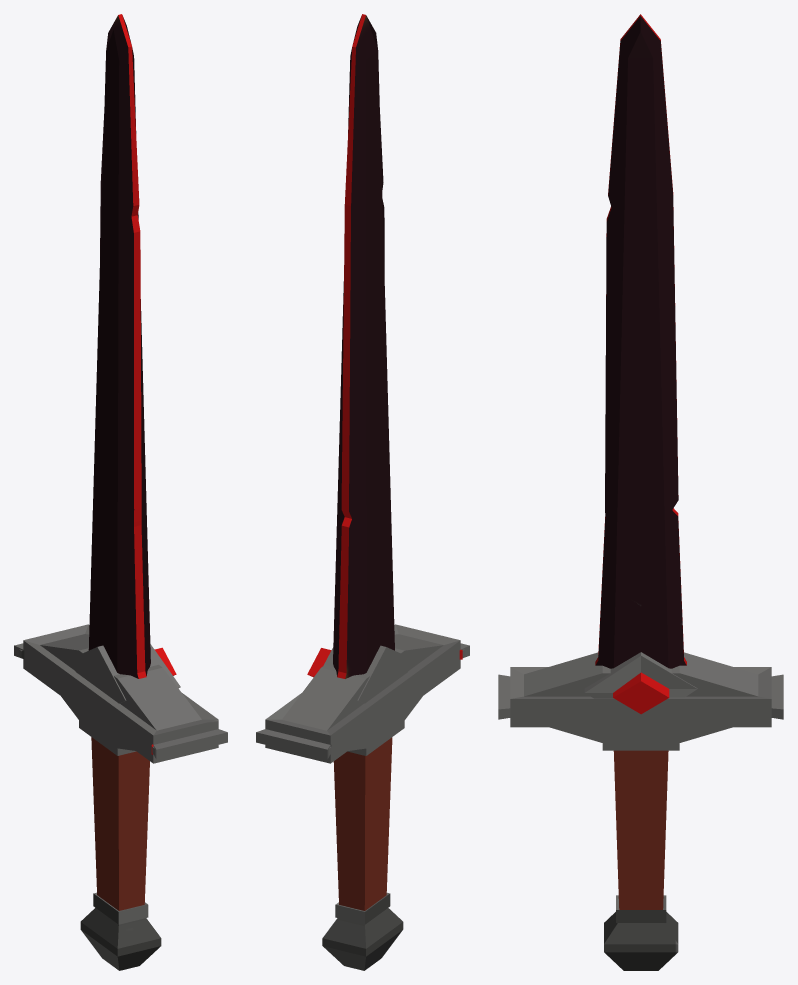
The model's file is FinalSwordColoured.fbx.
3 views of the same model, side by side, from view 1: azimuth 30°, elevation 25°; view 2: azimuth 150°, elevation 25°; view 3: azimuth 270°, elevation 25° (orthographic).
Parts seen in each view (by area): view 1: Plane; view 2: Plane; view 3: Plane.
Boxes of the visible parts, left/top/right/bottom form: Plane: left=14, top=14, right=227, bottom=970; Plane: left=256, top=14, right=469, bottom=970; Plane: left=498, top=14, right=783, bottom=970.
Size of the model in its own units: 40.75 by 477 by 130.
1 material, 1 textured.
